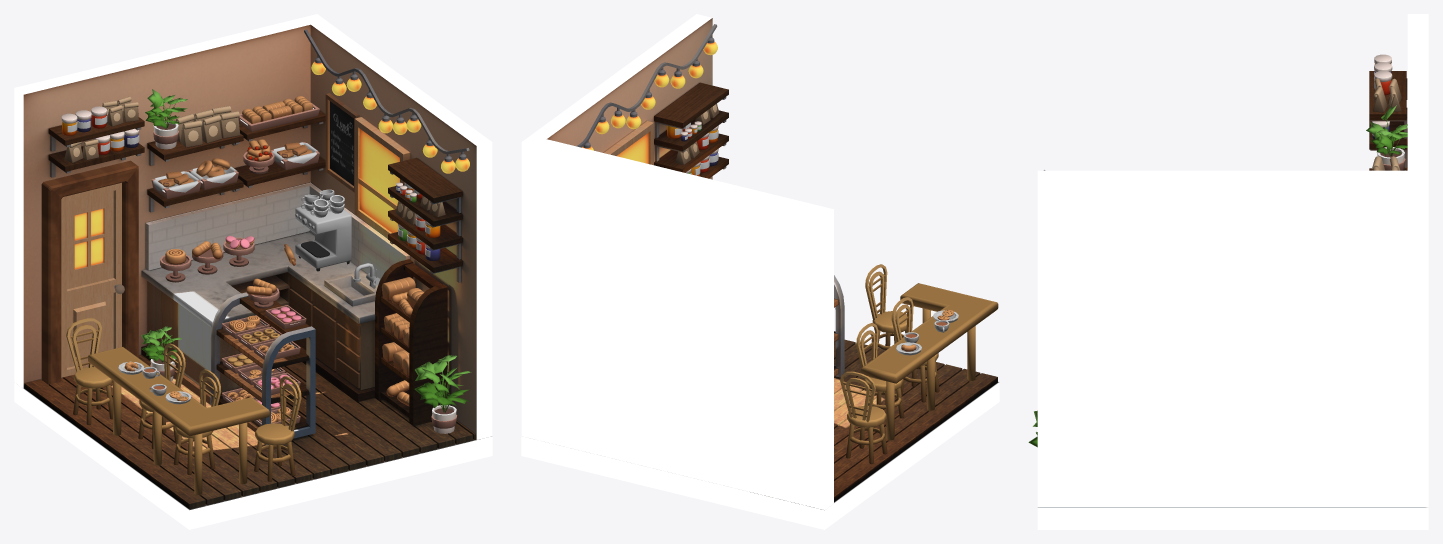
The picture shows the model from 3 angles, left to right: view 1: azimuth 30°, elevation 25°; view 2: azimuth 150°, elevation 25°; view 3: azimuth 270°, elevation 25°; orthographic projection. The views are drawn at different scales.
Visible parts, largest first — view 1: Isometric_cafe_202, Cube.003_9, Cube.002_10, Cube.062_42, Cube_8, Cylinder.067_31, Cylinder.070_34, Cylinder.020_68, Cylinder.066_30, Cylinder.018_67, Cylinder.069_33, Cylinder.068_32 (+3 smaller); view 2: Isometric_cafe_202, Cube.062_42, Cylinder.067_31, Cylinder.066_30, Cylinder.070_34, Cylinder.068_32, Cylinder.069_33, Plane.016_194; view 3: Isometric_cafe_202, Cylinder.018_67.
Part boxes in pixels (x1,y1,x2,y2): Isometric_cafe_202: (14,14,492,529); Cube.003_9: (61,182,124,377); Cube.002_10: (41,160,138,384); Cube.062_42: (88,347,269,436); Cube_8: (295,206,351,271); Cylinder.067_31: (66,318,112,424); Cylinder.070_34: (254,376,301,481); Cylinder.020_68: (414,355,471,433); Cylinder.066_30: (113,380,247,495); Cylinder.018_67: (145,89,187,149); Cylinder.069_33: (173,369,221,474); Cylinder.068_32: (138,343,185,448); Isometric_cafe_202: (521,14,999,529); Cube.062_42: (861,283,998,383); Cylinder.067_31: (840,371,887,464); Cylinder.066_30: (886,308,975,440); Cylinder.070_34: (865,264,906,353); Cylinder.068_32: (856,323,904,426); Cylinder.069_33: (891,297,939,402); Plane.016_194: (576,24,717,147); Isometric_cafe_202: (1037,14,1428,529); Cylinder.018_67: (1366,105,1407,170).
Size of the model in its own units: 2 by 1.98 by 2.05.
8 materials, 6 textured.
